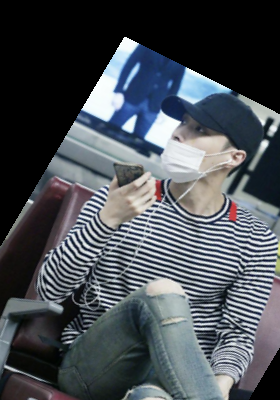mask_weared_incorrect: (159, 92, 272, 197)
